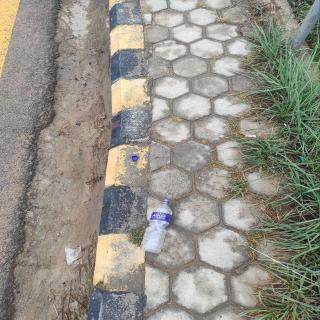Plastic-bottle: (137, 198, 178, 256)
